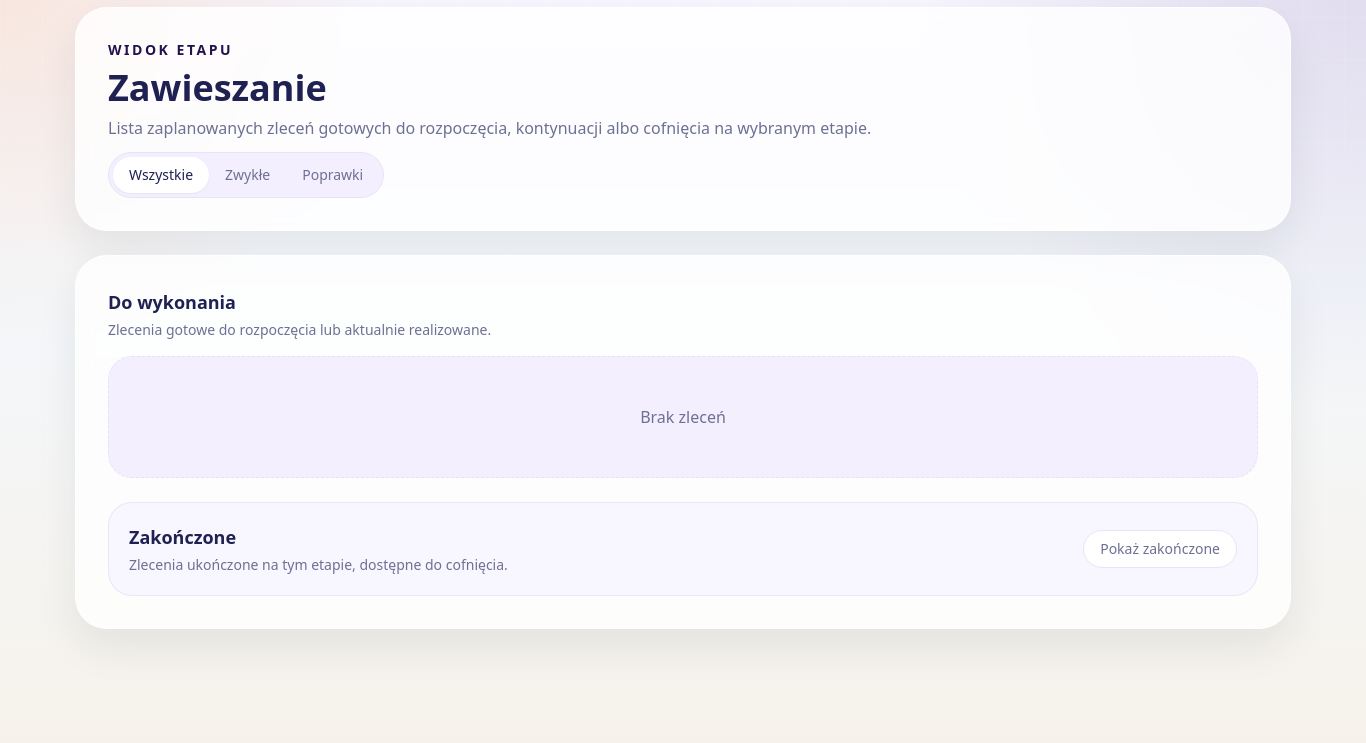
Test case: frontend state consistency › does not render 0/X batch progress for merged correction in completed stage tab
This screenshot has width=1366, height=743.
Click the button "Pokaż zakończone" at (1160, 549), box x1=1083 y1=530 x2=1237 y2=568
(page scrolled)
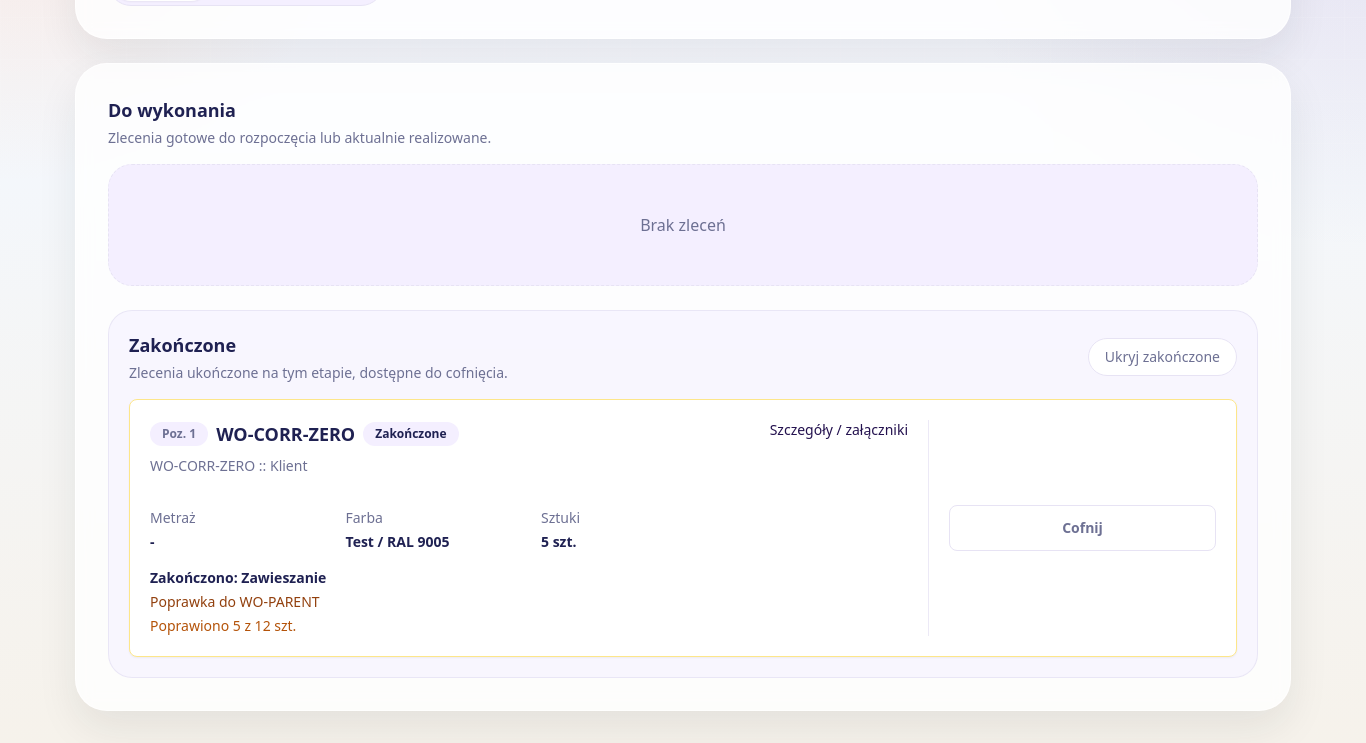
expect the text "Poprawiono 5 z 12 szt." is shown: met, box x1=150 y1=616 x2=296 y2=635
